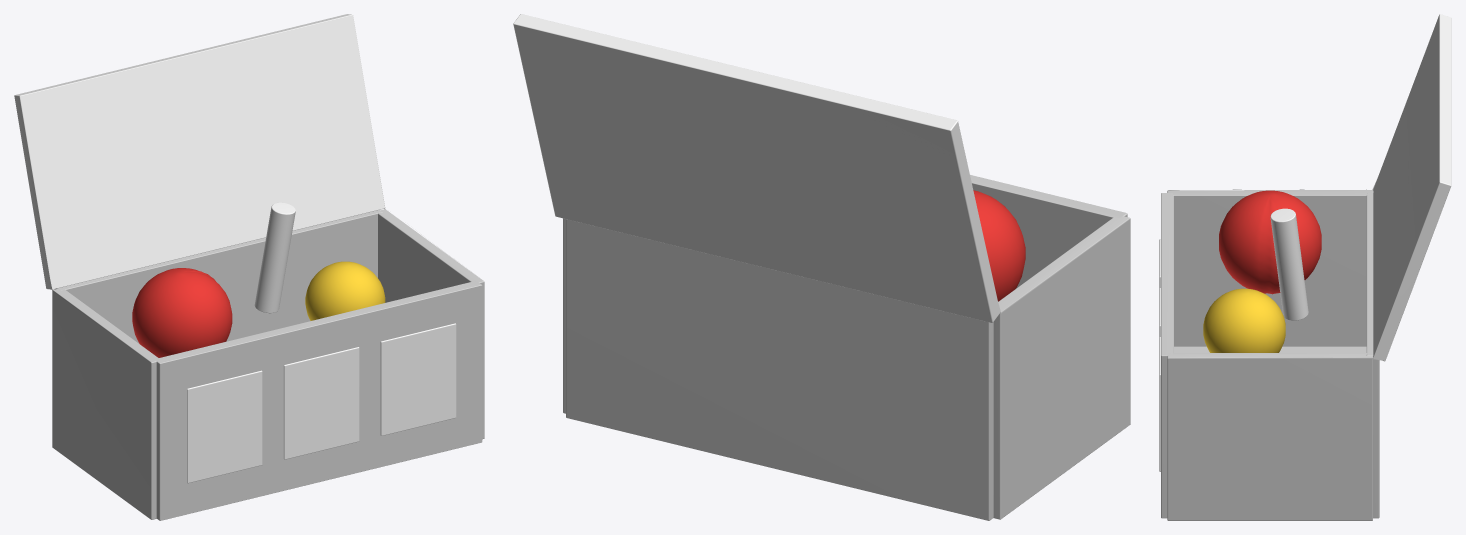
The model's file is toy_chest.glb.
The picture shows the model from 3 angles, left to right: view 1: azimuth 30°, elevation 25°; view 2: azimuth 150°, elevation 25°; view 3: azimuth 270°, elevation 25°; orthographic projection. The views are drawn at different scales.
Visible parts, largest first — view 1: toy_chest.001; view 2: toy_chest.001; view 3: toy_chest.001.
Boxes of the visible parts, x1,y1,x2,y2 form: toy_chest.001: (14,14,484,520); toy_chest.001: (513,14,1130,520); toy_chest.001: (1159,14,1451,520).
Size of the model in its own units: 31 by 29.12 by 22.73.
